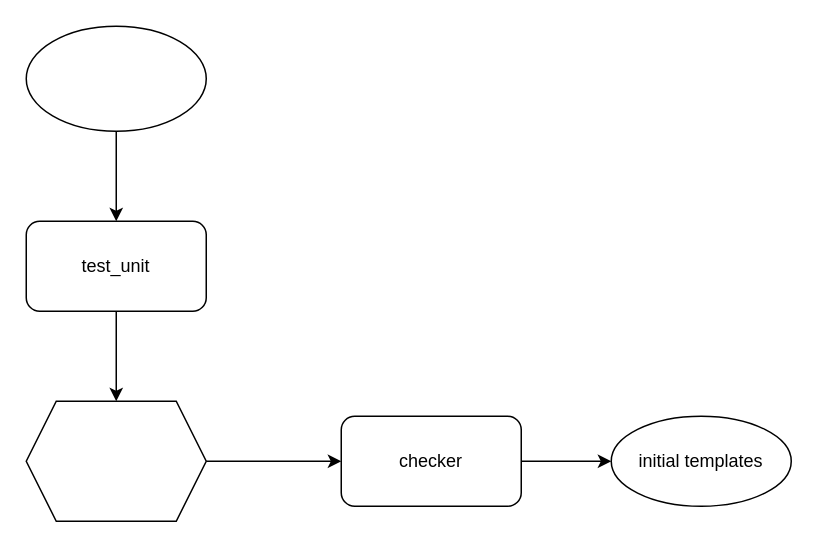
This 818x548 diagram has some shape labels left out. The centre of each missing label's shape, as x and y in pixels:
"conversion" belongs at [115,460].
"input_data" belongs at [115,78].
